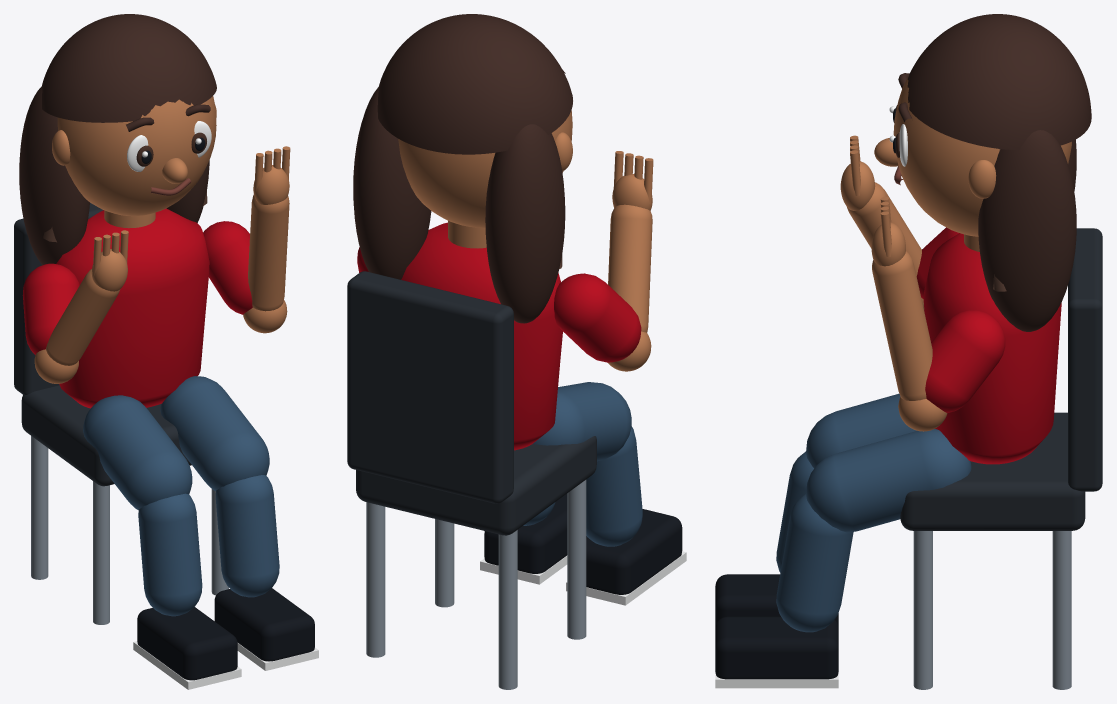
Rendered from P_auditiva.glb.
3 renders of one model, left to right at view 1: azimuth 30°, elevation 25°; view 2: azimuth 150°, elevation 25°; view 3: azimuth 270°, elevation 25°, orthographic. The views are drawn at different scales.
Visible parts, largest first — view 1: torso, muslo (×2), cabello, pierna (×2), cabeza, zapato (×2), mechon_largo (×2), antebrazo (×2), manga (×2), pata_silla (×3), asiento, respaldo (+6 smaller); view 2: respaldo, mechon_largo (×2), cabello, pata_silla (×4), torso, asiento, zapato (×2), cabeza, manga, pierna, muslo, antebrazo (+4 smaller); view 3: cabello, torso, mechon_largo, muslo (×2), asiento, zapato (×2), respaldo, pierna (×2), antebrazo (×2), cabeza, manga (×2), pata_silla (×2) (+4 smaller).
Part boxes in pixels (x1,y1,x2,y2): torso: (56,208,209,408); muslo (×2): (83,376,269,509); cabello: (42,14,216,122); pierna (×2): (138,475,279,616); cabeza: (57,96,216,216); zapato (×2): (137,588,314,680); mechon_largo (×2): (19,86,209,265); antebrazo (×2): (46,194,289,365); manga (×2): (22,221,252,354); pata_silla (×3): (31,436,228,624); asiento: (21,385,191,486); respaldo: (14,202,103,394); respaldo: (347,271,513,503); mechon_largo (×2): (353,87,565,323); cabello: (377,14,572,154); pata_silla (×4): (366,480,586,689); torso: (401,222,562,450); asiento: (356,436,596,535); zapato (×2): (484,493,682,594); cabeza: (398,110,572,227); manga: (554,273,641,362); pierna: (586,426,642,546); muslo: (533,382,631,461); antebrazo: (608,204,652,332); cabello: (907,14,1091,150); torso: (923,233,1061,464); mechon_largo: (978,130,1076,331); muslo (×2): (806,393,971,532); asiento: (900,412,1085,530); zapato (×2): (715,574,838,679); respaldo: (1068,228,1102,491); pierna (×2): (776,451,853,632); antebrazo (×2): (846,182,932,400); cabeza: (893,76,1071,236); manga (×2): (916,227,1005,412); pata_silla (×2): (913,531,1071,689).
Bounding box in the file's own units: 0.83 × 1.8 × 1.
